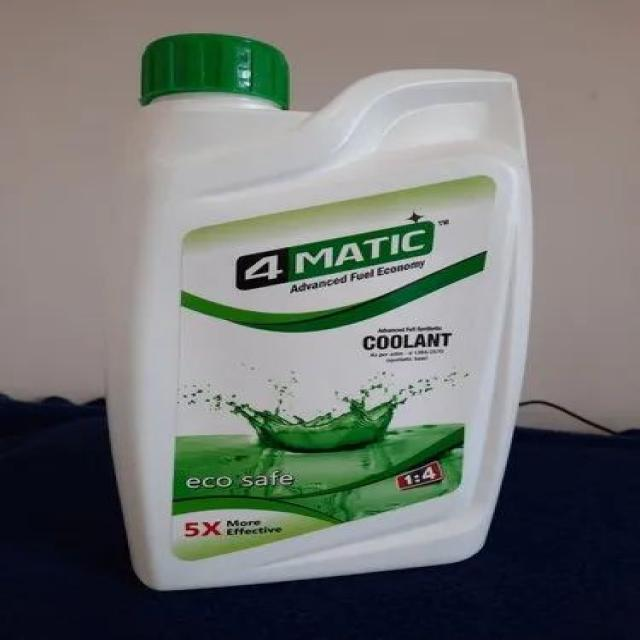coolant: (116, 31, 515, 594)
